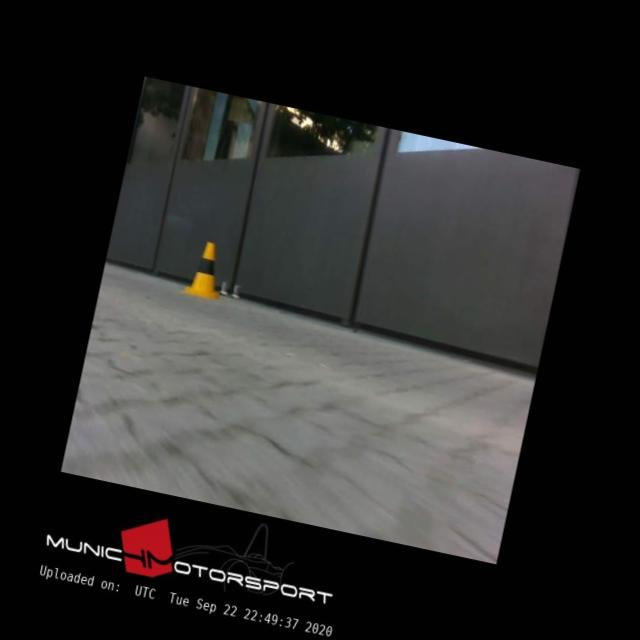yellow_cone: (182, 238, 227, 298)
